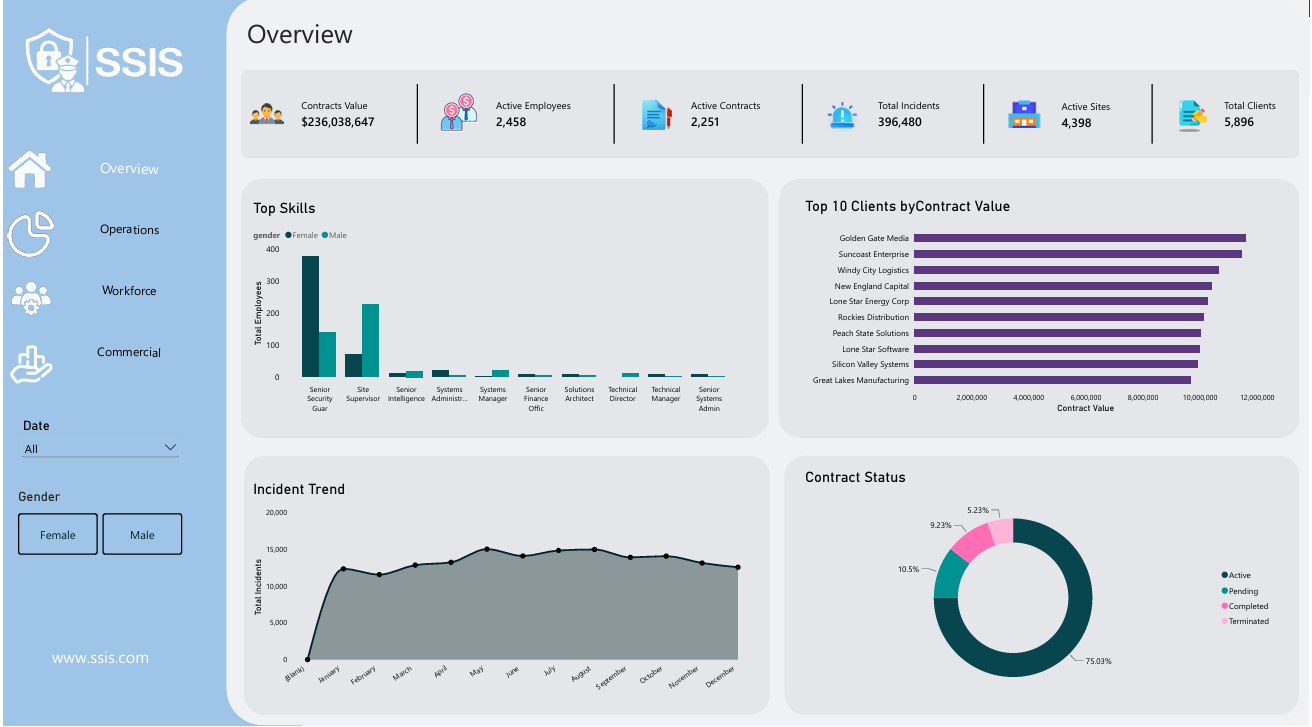

The page's visual inventory and layout, read from the dashboard file:
{"tool":"powerbi","page":{"name":"Overview","canvas":[1280,720],"ordinal":0},"visuals":[{"type":"textbox","box":[386.4,11.8,874.3,64.7],"z":0},{"type":"shape","box":[14.7,11.8,205.7,702.4],"z":1000},{"type":"textbox","box":[30.9,27.9,164.6,61.7],"z":2000},{"type":"actionButton","box":[25,293.9,178,58.9],"z":2000,"group":"g6"},{"type":"cardVisual","title":"Active Contracts","fields":{"Data":["ssis contract.Active Contracts"]},"box":[639.4,87.8,144,99.4],"z":3000,"group":"g10"},{"type":"clusteredBarChart","title":"Employee Skill Level","fields":{"Category":["ssis employee.skill_level"],"Y":["CountNonNull(ssis employee.employee_name)"]},"box":[227.8,199.8,546.6,310],"z":3000},{"type":"actionButton","box":[23.5,392.3,178,58.9],"z":3000,"group":"g7"},{"type":"donutChart","title":"Contract Status","fields":{"Y":["CountNonNull(ssis contract.contract_id)"],"Category":["ssis contract.status"]},"box":[783.2,515.8,479,198.4],"z":4000},{"type":"group","id":"g1","title":"Group 1","box":[227.5,87.8,231.8,99.4],"z":5000},{"type":"actionButton","box":[23.5,479,178,60.2],"z":5000,"group":"g8"},{"type":"group","id":"g2","title":"Group 2","box":[469.4,86.4,157,99.4],"z":6000},{"type":"actionButton","box":[29.4,568,177.8,60.2],"z":6000,"group":"g9"},{"type":"cardVisual","title":"Active Employees","fields":{"Data":["ssis employee.Active Employees"]},"box":[469.4,86.4,157,99.4],"z":7000,"group":"g2"},{"type":"group","id":"g3","title":"Group 3","box":[800,86.7,154,100.2],"z":7000},{"type":"group","id":"g4","title":"Group 4","box":[966,86.7,148,100.2],"z":8000},{"type":"cardVisual","title":"Active Sites","fields":{"Data":["ssis site.Active Sites"]},"box":[1127.5,86.7,133.1,100.2],"z":8000,"group":"g5"},{"type":"image","box":[639.4,113.7,49,73.4],"z":8000,"group":"g10"},{"type":"group","id":"g5","title":"Group 5","box":[1127.5,86.7,133.1,100.2],"z":9000},{"type":"cardVisual","title":"Contract Value","fields":{"Data":["ssis contract.Total Contract Value"]},"box":[227.5,87.8,231.8,99.4],"z":10000,"group":"g1"},{"type":"group","id":"g6","title":"Group 6","box":[25,293.9,177.8,58.8],"z":10000},{"type":"cardVisual","title":"Total Incidents","fields":{"Data":["ssis incident.Total Incidents"]},"box":[800,86.7,154,100.2],"z":11000,"group":"g3"},{"type":"group","id":"g7","title":"Group 7","box":[23.5,392.3,177.8,58.8],"z":11000},{"type":"cardVisual","title":"Total Clients","fields":{"Data":["ssis client.Total Clients"]},"box":[966,86.7,148,100.2],"z":12000,"group":"g4"},{"type":"group","id":"g8","title":"Group 8","box":[23.5,479,177.8,60.2],"z":12000},{"type":"group","id":"g9","title":"Group 9","box":[29.4,567.2,177.8,61.7],"z":13000},{"type":"image","box":[227.5,87.8,59,97.9],"z":13005,"group":"g1"},{"type":"image","box":[469.4,113.8,59,70.6],"z":13007,"group":"g2"},{"type":"image","box":[966.3,89.3,44.6,95],"z":13008,"group":"g4"},{"type":"image","box":[1127.5,87.8,36,95],"z":13009,"group":"g5"},{"type":"image","box":[800.6,89.3,31.7,95],"z":13010,"group":"g3"},{"type":"image","box":[23.5,392.3,36.7,58.9],"z":13016,"group":"g7"},{"type":"image","box":[26.3,293.9,45.8,58.9],"z":13017,"group":"g6"},{"type":"image","box":[24.8,479,38,58.9],"z":13018,"group":"g8"},{"type":"image","box":[34.7,567.2,27.9,59.4],"z":13019,"group":"g9"},{"type":"group","id":"g10","title":"Group 10","box":[639.4,87.8,144,99.4],"z":14000},{"type":"lineChart","title":"Incident Trend","fields":{"Y":["CountNonNull(ssis incident.incident_type)"],"Category":["ssis incident.incident_datetime.Variation.Date Hierarchy.Year","ssis incident.incident_datetime.Variation.Date Hierarchy.Quarter","ssis incident.incident_datetime.Variation.Date Hierarchy.Month","ssis incident.incident_datetime.Variation.Date Hierarchy.Day"]},"box":[227.8,515.8,546.6,198.4],"z":15000},{"type":"clusteredBarChart","title":"Top 10 Clients byContract Value","fields":{"Category":["ssis client.client_name"],"Y":["Sum(ssis contract.contract_value)"]},"box":[783.2,194,477.6,315.9],"z":16000},{"type":"textbox","box":[227.8,27.9,158.7,48.5],"z":17000},{"type":"image","box":[30.9,86.7,164.6,195.4],"z":18000}]}

Visuals, with their boxes in screenshot pixels (x1, y1, x2, y2), scaled from the page's 1280x720 canvas onto the 1312x727 screenshot:
textbox: crop(396, 12, 1292, 77)
shape: crop(15, 12, 226, 721)
textbox: crop(32, 28, 200, 90)
actionButton: crop(26, 297, 208, 356)
"Active Contracts" cardVisual: crop(655, 89, 803, 189)
"Employee Skill Level" clusteredBarChart: crop(233, 202, 794, 515)
actionButton: crop(24, 396, 207, 456)
"Contract Status" donutChart: crop(803, 521, 1294, 721)
"Group 1" group: crop(233, 89, 471, 189)
actionButton: crop(24, 484, 207, 544)
"Group 2" group: crop(481, 87, 642, 188)
actionButton: crop(30, 574, 212, 634)
"Active Employees" cardVisual: crop(481, 87, 642, 188)
"Group 3" group: crop(820, 88, 978, 189)
"Group 4" group: crop(990, 88, 1142, 189)
"Active Sites" cardVisual: crop(1156, 88, 1292, 189)
image: crop(655, 115, 706, 189)
"Group 5" group: crop(1156, 88, 1292, 189)
"Contract Value" cardVisual: crop(233, 89, 471, 189)
"Group 6" group: crop(26, 297, 208, 356)
"Total Incidents" cardVisual: crop(820, 88, 978, 189)
"Group 7" group: crop(24, 396, 206, 455)
"Total Clients" cardVisual: crop(990, 88, 1142, 189)
"Group 8" group: crop(24, 484, 206, 544)
"Group 9" group: crop(30, 573, 212, 635)
image: crop(233, 89, 294, 188)
image: crop(481, 115, 542, 186)
image: crop(990, 90, 1036, 186)
image: crop(1156, 89, 1193, 185)
image: crop(821, 90, 853, 186)
image: crop(24, 396, 62, 456)
image: crop(27, 297, 74, 356)
image: crop(25, 484, 64, 543)
image: crop(36, 573, 64, 633)
"Group 10" group: crop(655, 89, 803, 189)
"Incident Trend" lineChart: crop(233, 521, 794, 721)
"Top 10 Clients byContract Value" clusteredBarChart: crop(803, 196, 1292, 515)
textbox: crop(233, 28, 396, 77)
image: crop(32, 88, 200, 285)
